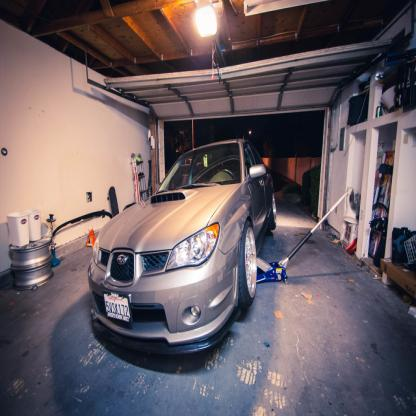Car: (86, 138, 278, 357)
